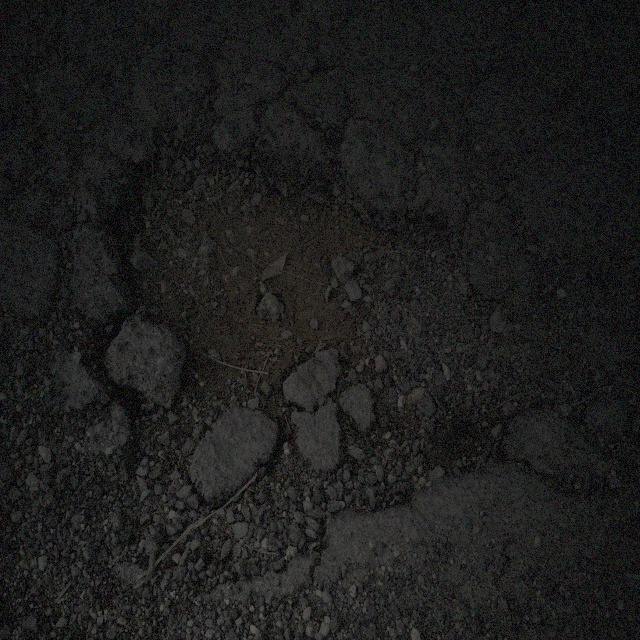pothole: (116, 102, 522, 516)
